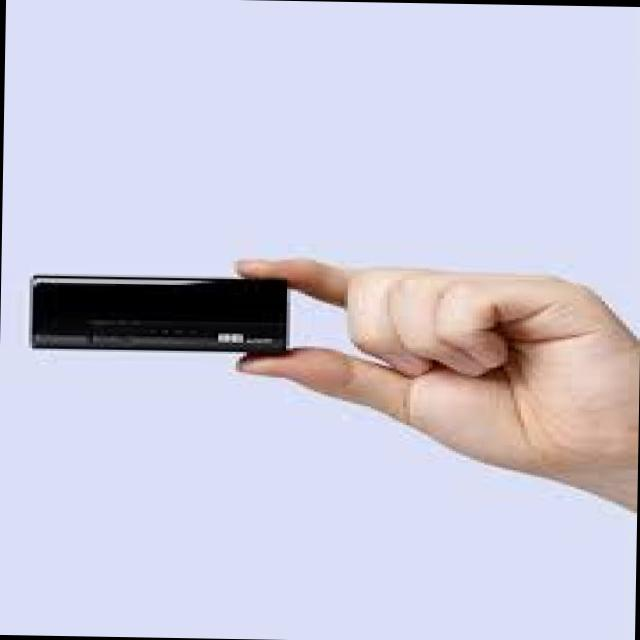portable-charger: (28, 267, 289, 355)
